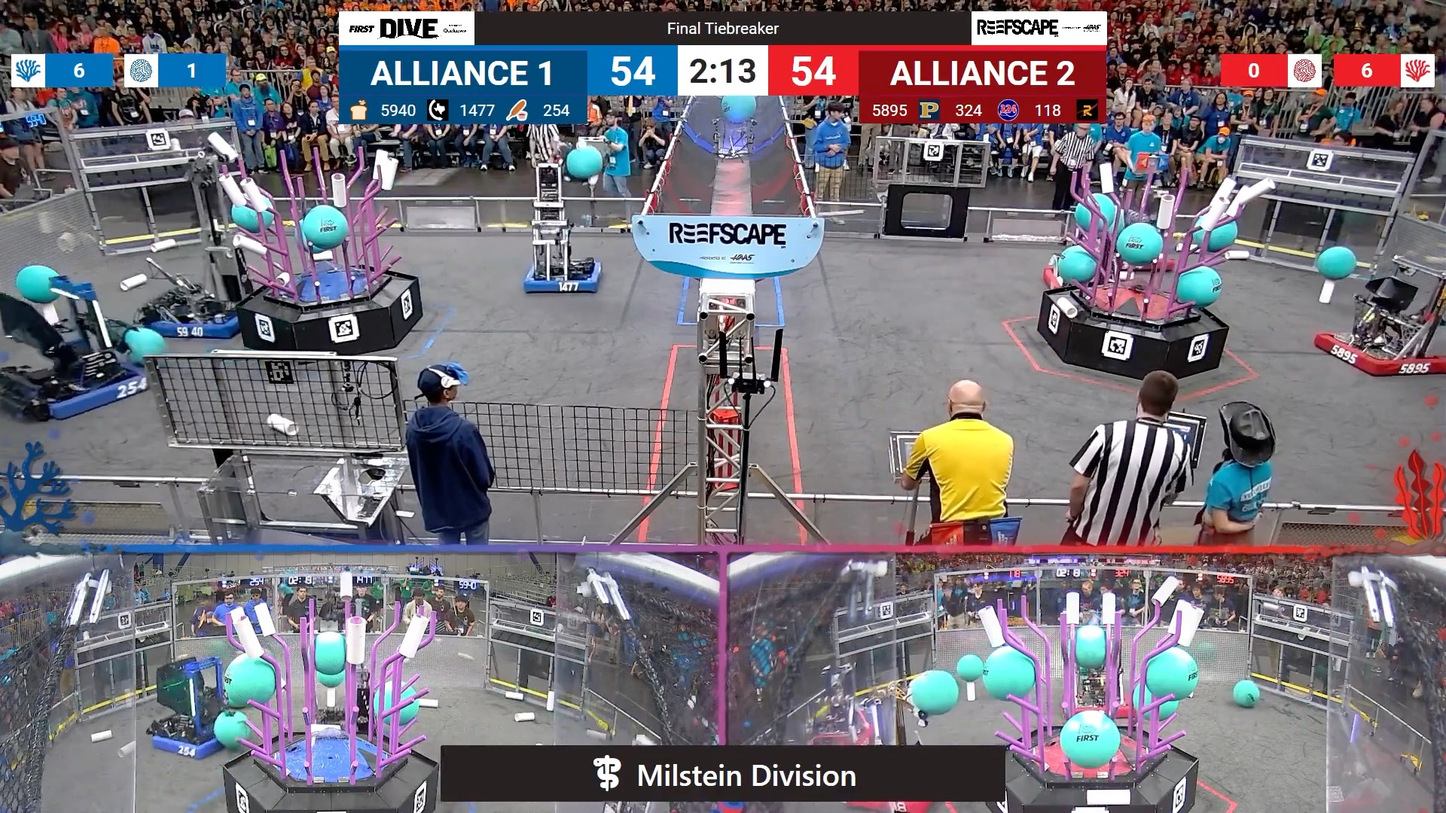bumpers: (4, 358, 162, 426), (1304, 327, 1444, 384), (143, 291, 248, 345), (141, 716, 232, 759), (518, 257, 607, 298), (1037, 263, 1130, 300), (1087, 245, 1185, 279), (1056, 693, 1157, 724)
